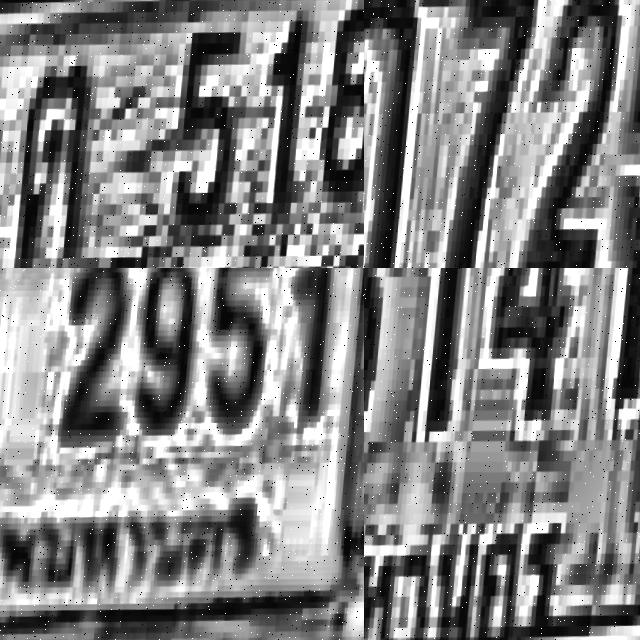license-plate: (0, 268, 364, 640), (364, 268, 640, 640), (0, 0, 364, 268), (364, 0, 640, 268)
